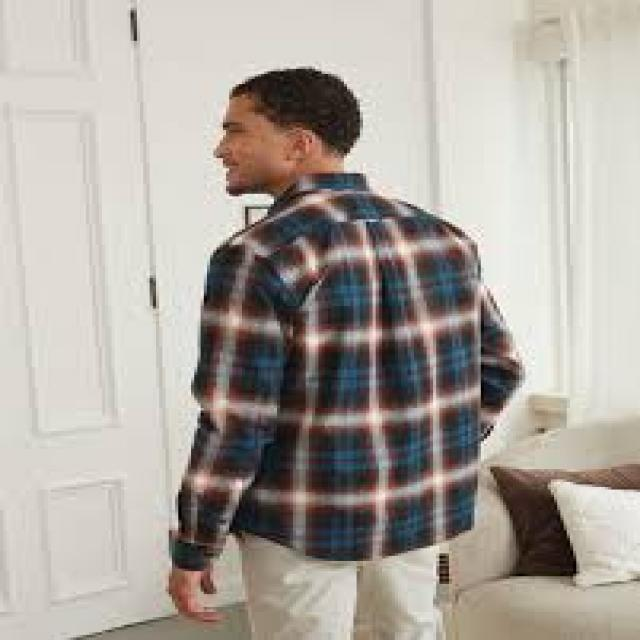plaid: (164, 170, 522, 574)
